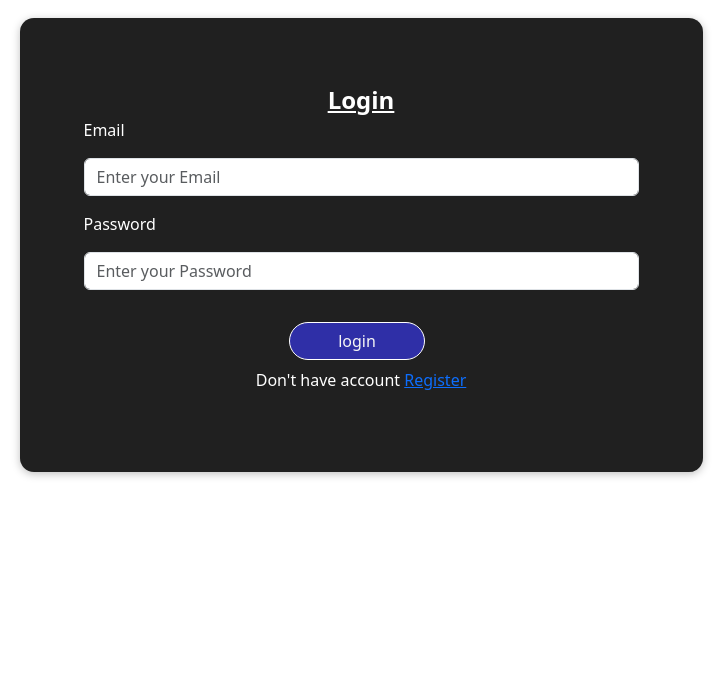
Routing from login to sginup and home pages › sginup Route
Click the link with test id "tosignup".
click(435, 380)  # box [404,369,466,391]
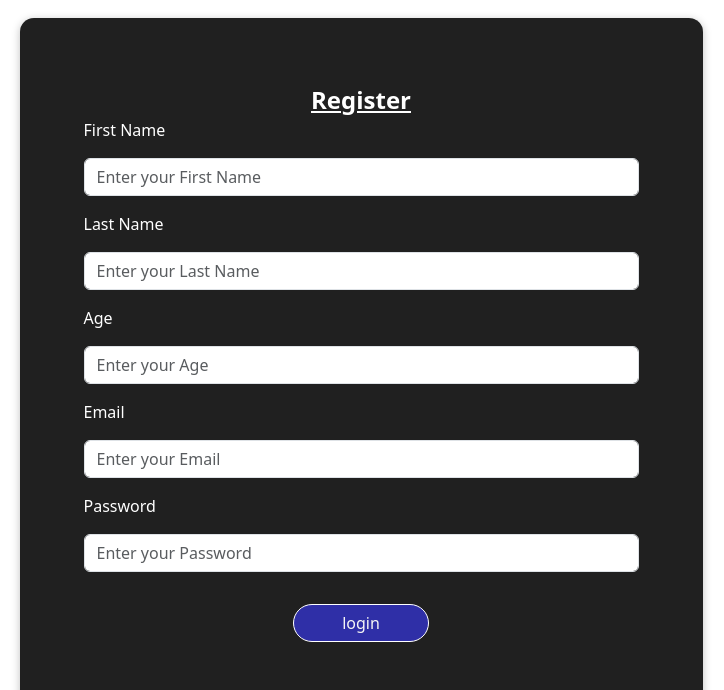
Check: the text "Register" is shown, box [311,83,411,116]
